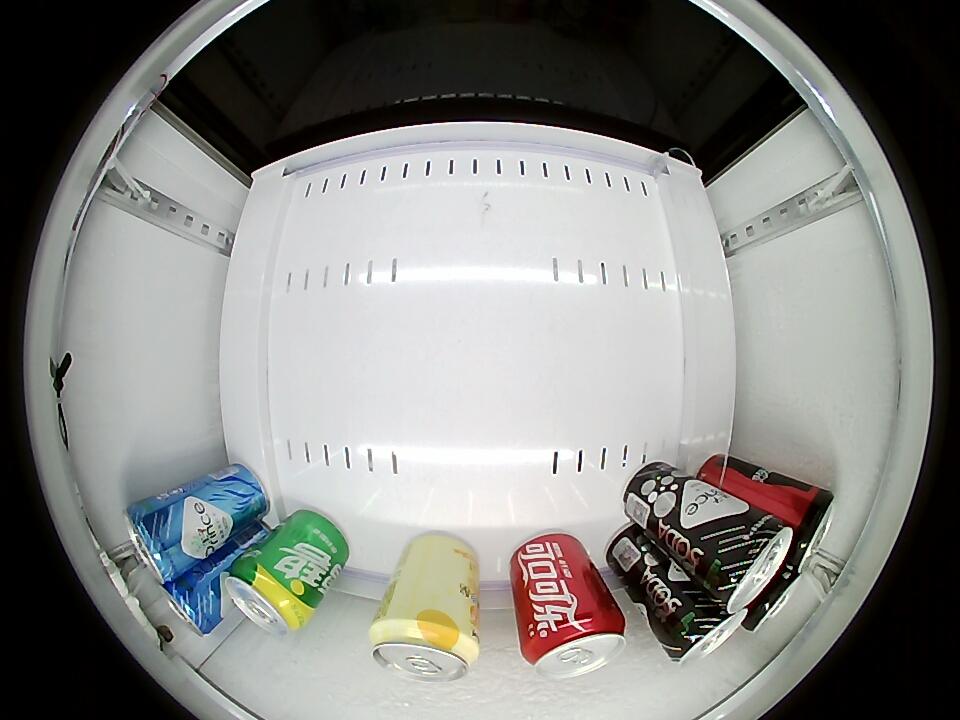kele: (521, 609, 627, 679)
lingdukele: (782, 482, 836, 572), (745, 568, 802, 634)
mangguoxiaolao: (370, 612, 480, 683)
qingdaowangzi-1: (705, 512, 793, 613), (662, 596, 747, 665)
qingdaowangzi-2: (124, 496, 190, 583), (158, 570, 223, 636)
xuebi2: (225, 559, 310, 635)
